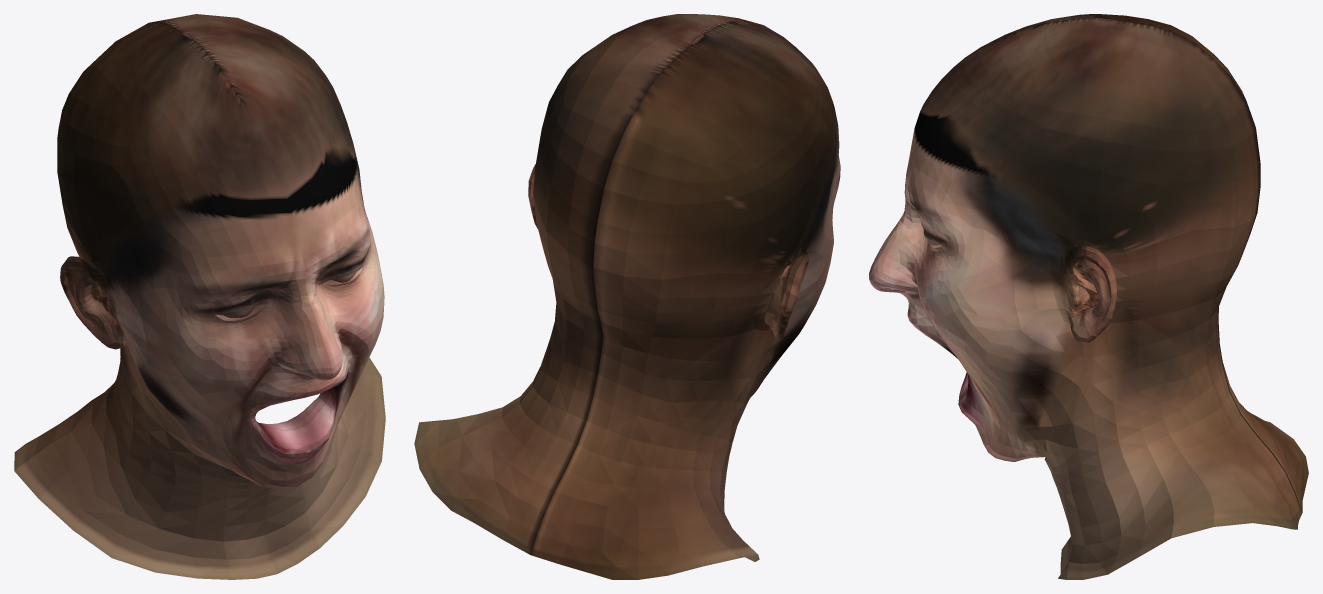
File: face_video_frame0600.obj
The picture shows the model from 3 angles, left to right: view 1: azimuth 30°, elevation 25°; view 2: azimuth 150°, elevation 25°; view 3: azimuth 270°, elevation 25°; orthographic projection. The views are drawn at different scales.
Bounding box in the file's own units: 0.2197 × 0.3268 × 0.2477.
1 material, 1 textured.
